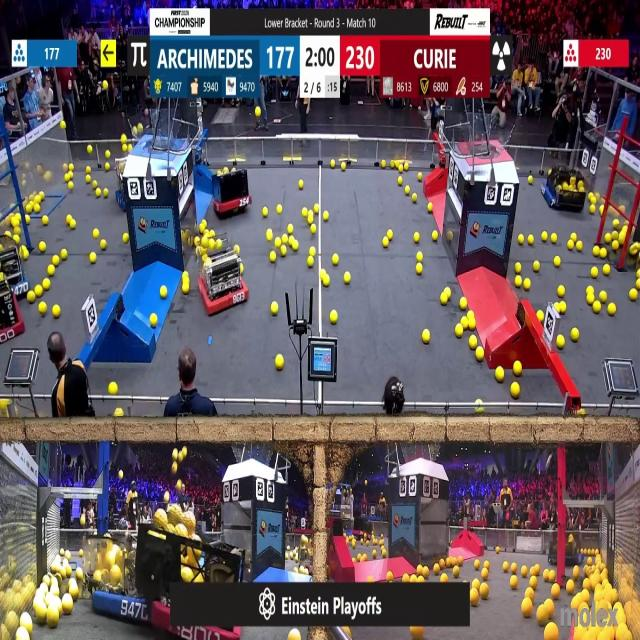ball_airborne: (158, 511, 168, 530), (180, 448, 188, 462), (172, 450, 178, 462), (165, 492, 171, 502), (172, 462, 178, 472), (254, 107, 260, 117), (176, 481, 182, 490), (103, 80, 108, 90), (120, 135, 126, 143), (137, 122, 143, 130), (61, 120, 67, 128), (121, 144, 127, 152), (122, 473, 126, 481)
ball_ground: (46, 609, 58, 627), (536, 606, 548, 624), (62, 597, 74, 613), (544, 624, 556, 640), (522, 600, 532, 617), (468, 591, 478, 606), (36, 606, 46, 621), (514, 360, 523, 376), (480, 585, 489, 600), (276, 354, 284, 370), (552, 586, 561, 600), (512, 383, 520, 398), (496, 366, 504, 381), (566, 582, 574, 596), (289, 630, 300, 640), (629, 289, 638, 301), (329, 311, 337, 324), (422, 331, 430, 344), (54, 306, 62, 319), (511, 575, 519, 588), (71, 587, 79, 600), (543, 570, 552, 581), (456, 324, 464, 336), (607, 304, 615, 316), (599, 290, 607, 302), (109, 383, 117, 395), (468, 338, 476, 350), (28, 290, 36, 302), (38, 304, 46, 316), (571, 328, 578, 341), (475, 348, 482, 361), (558, 337, 565, 350), (460, 299, 467, 312), (602, 266, 610, 277), (467, 319, 475, 330), (558, 285, 565, 297), (47, 266, 54, 278), (482, 567, 489, 579), (27, 622, 34, 634), (386, 570, 394, 580), (0, 398, 8, 408), (272, 303, 278, 316), (150, 314, 156, 327), (516, 277, 523, 288), (594, 303, 601, 314), (442, 293, 449, 304), (516, 264, 523, 275), (331, 253, 338, 264), (522, 566, 529, 577), (453, 566, 460, 577), (524, 278, 530, 290), (162, 286, 168, 298), (344, 273, 350, 285), (530, 575, 536, 587), (572, 566, 578, 578), (555, 256, 562, 266), (322, 277, 329, 287), (91, 252, 98, 262), (588, 293, 595, 303), (42, 280, 49, 290), (200, 222, 207, 232), (94, 230, 101, 240), (51, 255, 58, 265), (282, 236, 289, 246), (571, 599, 578, 609), (592, 268, 598, 279), (268, 231, 274, 242), (309, 256, 315, 267), (39, 242, 45, 253), (560, 303, 566, 314), (533, 262, 539, 273), (414, 233, 420, 244), (292, 239, 298, 250), (36, 285, 42, 296), (62, 249, 68, 260), (76, 568, 82, 579), (442, 573, 449, 582), (34, 204, 41, 213), (122, 234, 128, 244), (287, 224, 293, 234), (552, 234, 558, 244), (182, 284, 188, 294), (537, 312, 543, 322), (417, 252, 423, 262), (575, 242, 581, 252), (270, 252, 276, 262), (281, 246, 287, 256), (322, 211, 328, 221), (568, 241, 574, 251), (100, 240, 106, 250), (382, 238, 388, 248), (600, 248, 606, 258), (314, 205, 320, 215), (518, 236, 524, 246), (70, 219, 76, 229), (528, 236, 534, 246), (502, 562, 508, 572), (590, 205, 596, 215), (611, 241, 617, 251), (604, 234, 610, 244), (303, 208, 309, 218), (589, 191, 595, 201), (512, 563, 518, 573), (402, 573, 409, 581), (115, 411, 122, 419), (466, 311, 473, 319), (412, 574, 419, 582), (417, 265, 422, 276), (42, 216, 48, 225), (594, 247, 600, 256), (68, 181, 74, 190), (277, 205, 283, 214), (311, 224, 317, 233), (540, 233, 546, 242), (403, 185, 409, 194), (276, 238, 282, 247), (457, 557, 463, 566), (446, 287, 452, 296), (448, 233, 454, 242), (472, 578, 478, 587), (388, 231, 393, 241), (309, 213, 314, 223), (24, 250, 29, 260), (434, 564, 439, 574), (570, 234, 576, 242), (96, 188, 102, 196), (310, 248, 316, 256), (182, 272, 188, 280), (396, 177, 402, 185), (474, 410, 482, 416), (418, 574, 424, 582), (94, 180, 100, 188), (382, 551, 388, 559), (13, 237, 19, 245), (474, 561, 479, 570), (428, 204, 433, 213), (418, 173, 423, 182), (264, 208, 269, 217), (320, 270, 325, 279), (417, 565, 422, 574), (88, 145, 93, 154), (588, 286, 594, 293), (87, 176, 93, 183), (381, 162, 387, 169), (578, 411, 584, 418), (367, 574, 372, 582), (413, 192, 418, 200), (528, 176, 533, 184), (342, 162, 347, 170), (105, 164, 110, 172), (599, 206, 604, 214), (193, 238, 198, 246), (432, 233, 436, 242), (104, 188, 108, 197), (330, 161, 334, 170), (66, 173, 70, 182), (485, 561, 490, 568), (298, 567, 303, 574), (85, 166, 90, 173), (398, 166, 403, 173), (362, 555, 367, 562), (298, 180, 302, 188), (636, 280, 640, 288), (27, 215, 31, 223), (406, 162, 410, 170), (70, 162, 74, 170), (372, 552, 376, 560), (106, 150, 110, 158), (356, 557, 361, 563), (496, 545, 500, 552), (636, 272, 640, 279), (546, 170, 550, 177)
goal: (460, 116, 518, 158), (127, 116, 188, 152)
robot_blue: (83, 533, 149, 622), (544, 166, 586, 210)
robot_red: (168, 551, 246, 640), (198, 238, 246, 313), (211, 160, 251, 218), (0, 271, 22, 343)
